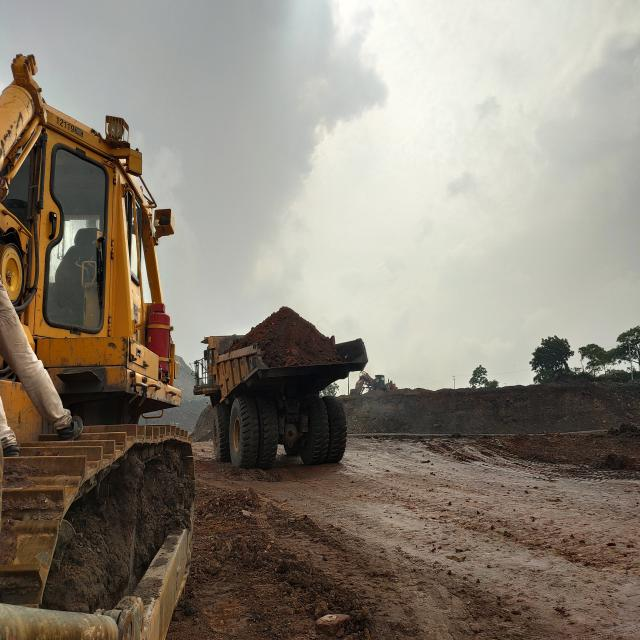buldozerpayloadergrader: (0, 55, 198, 640)
dump_truck: (200, 311, 368, 471)
